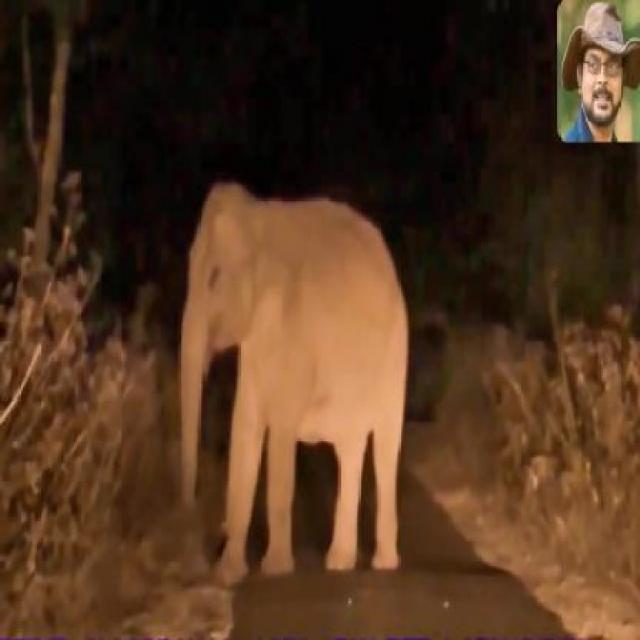Elephant: (170, 180, 416, 582)
